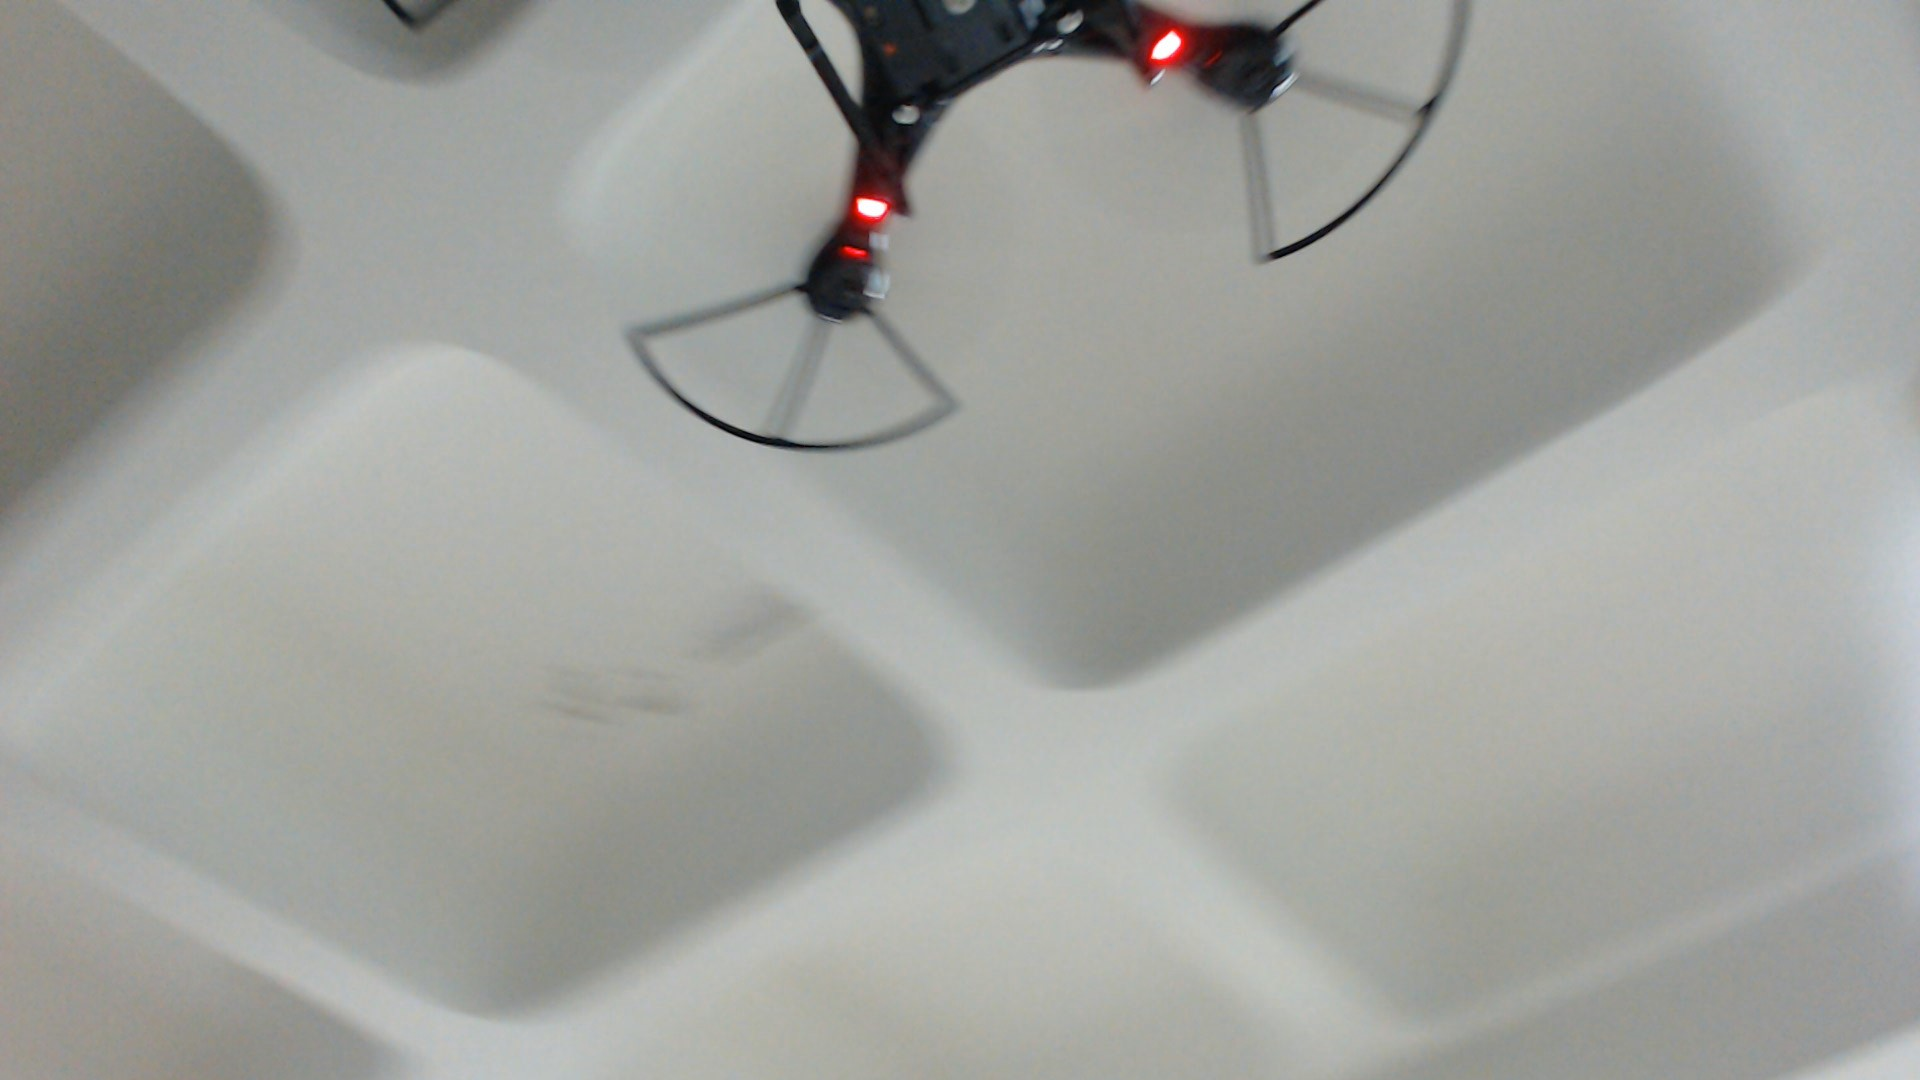drone: (378, 1, 1482, 459)
